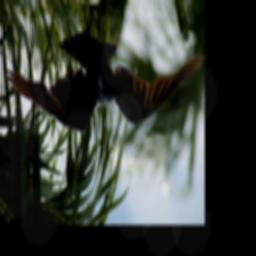Crow: (5, 10, 204, 135)
